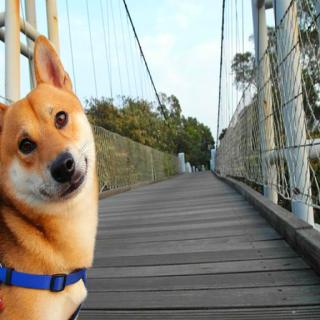dog: (0, 49, 106, 215)
nose: (45, 150, 80, 186)
